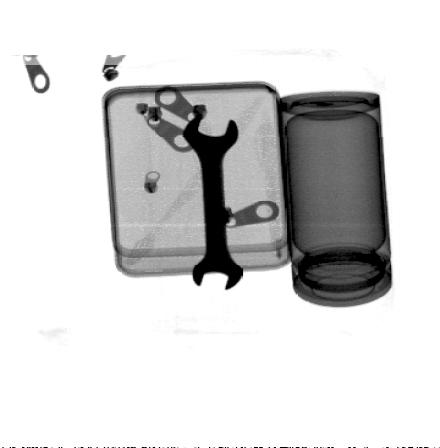Wrench: (179, 108, 245, 292)
